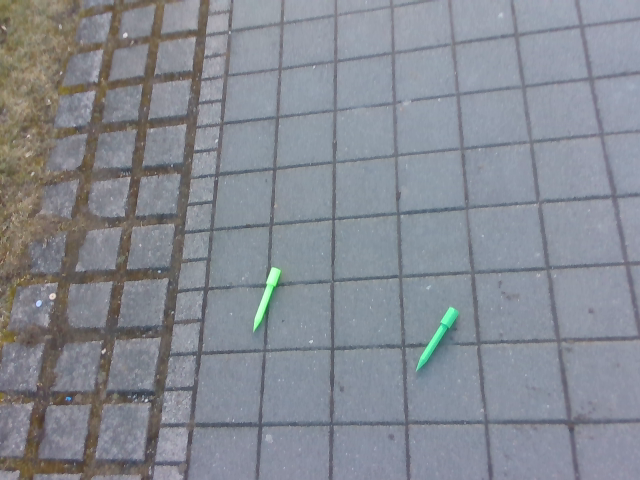Probe: (412, 304, 461, 376), (250, 264, 286, 334)
